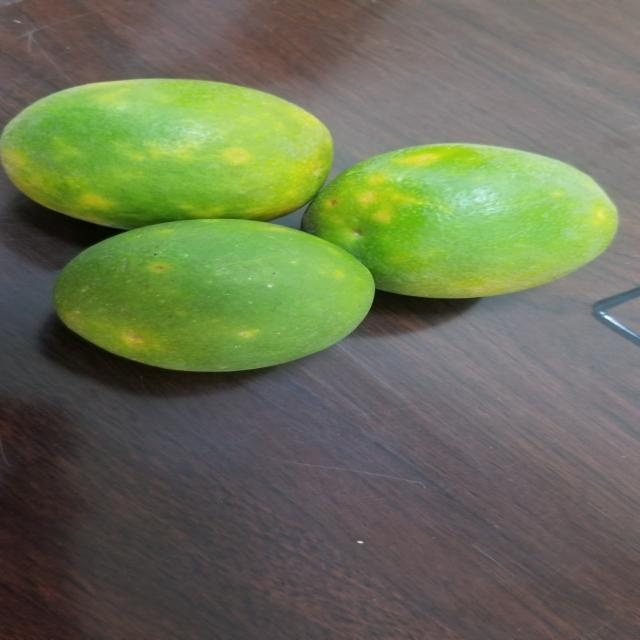agrume: (36, 214, 385, 383), (0, 63, 323, 228), (294, 140, 633, 295)
